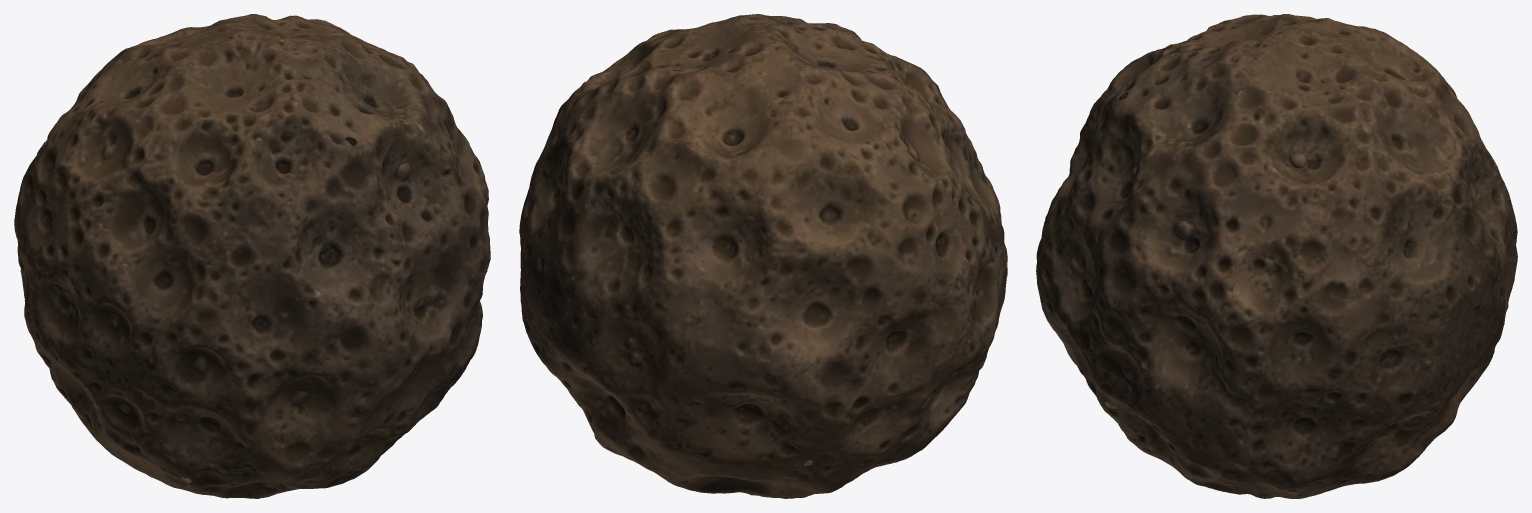
The model's file is asteroid_1.glb.
The picture shows the model from 3 angles, left to right: view 1: azimuth 30°, elevation 25°; view 2: azimuth 150°, elevation 25°; view 3: azimuth 270°, elevation 25°; orthographic projection.
Visible parts, largest first — view 1: Mesh_0; view 2: Mesh_0; view 3: Mesh_0.
Part boxes in pixels (x1=…): Mesh_0: x1=14, y1=14, x2=490, y2=498; Mesh_0: x1=519, y1=14, x2=1007, y2=498; Mesh_0: x1=1036, y1=14, x2=1517, y2=498.
Size of the model in its own units: 1 by 0.9927 by 0.9889.
Materials: 1 (1 with a texture image).
